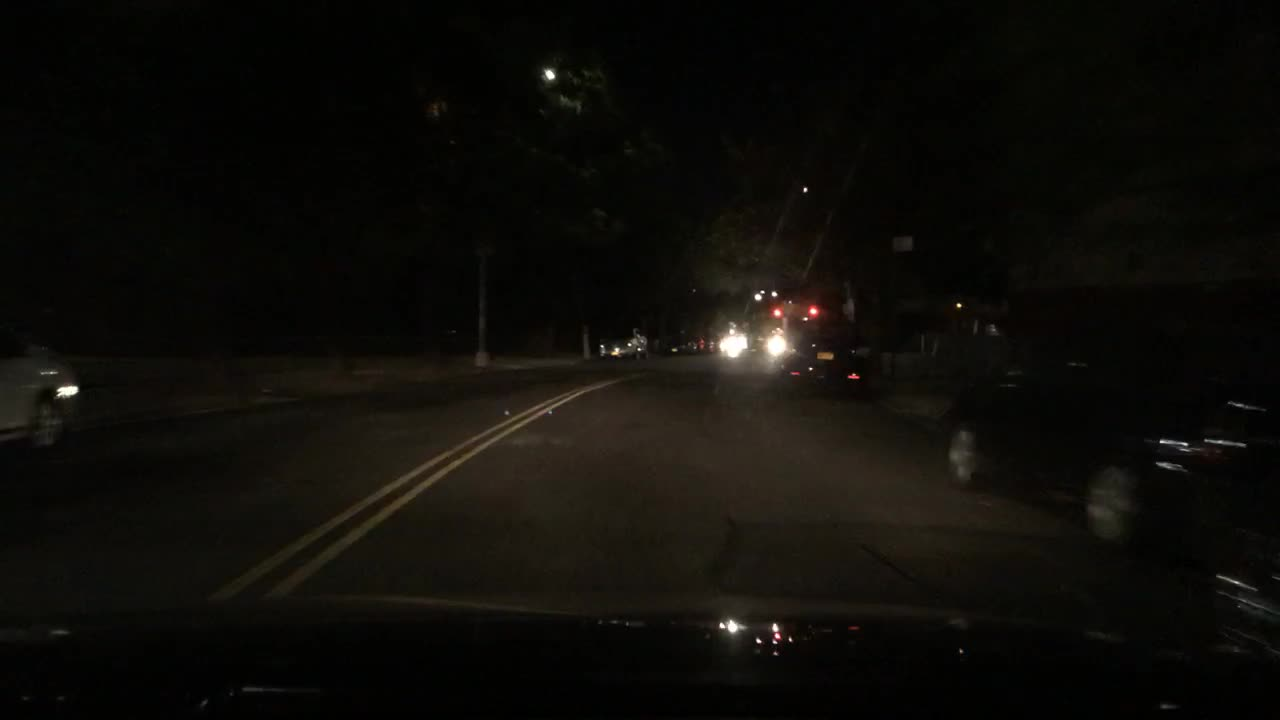car: (946, 330, 1278, 548), (1206, 534, 1278, 670), (0, 326, 75, 449), (781, 335, 871, 398), (721, 327, 784, 362), (595, 326, 646, 359), (668, 332, 700, 356), (694, 329, 719, 354), (712, 329, 727, 353)
traffic light: (805, 305, 820, 317), (772, 308, 784, 320)
traffic sign: (890, 236, 913, 253)
